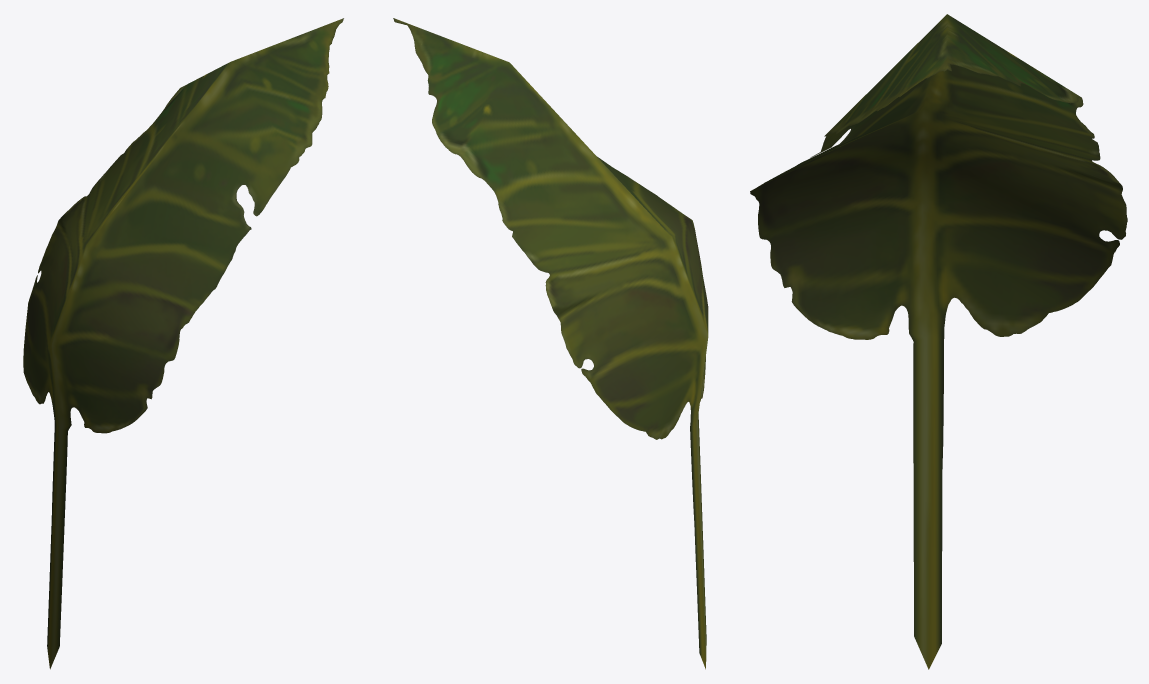
The model's file is Wetlands_Leaf_01.fbx.
3 views of the same model, side by side, from view 1: azimuth 30°, elevation 25°; view 2: azimuth 150°, elevation 25°; view 3: azimuth 270°, elevation 25° (orthographic). The views are drawn at different scales.
Parts seen in each view (by area): view 1: Wetlands_Leaf_01; view 2: Wetlands_Leaf_01; view 3: Wetlands_Leaf_01.
Boxes of the visible parts, left/top/right/bottom form: Wetlands_Leaf_01: left=23, top=18, right=343, bottom=669; Wetlands_Leaf_01: left=393, top=18, right=708, bottom=669; Wetlands_Leaf_01: left=750, top=14, right=1127, bottom=669.
Size of the model in its own units: 1.56 by 2.76 by 1.22.
1 material, 1 textured.
